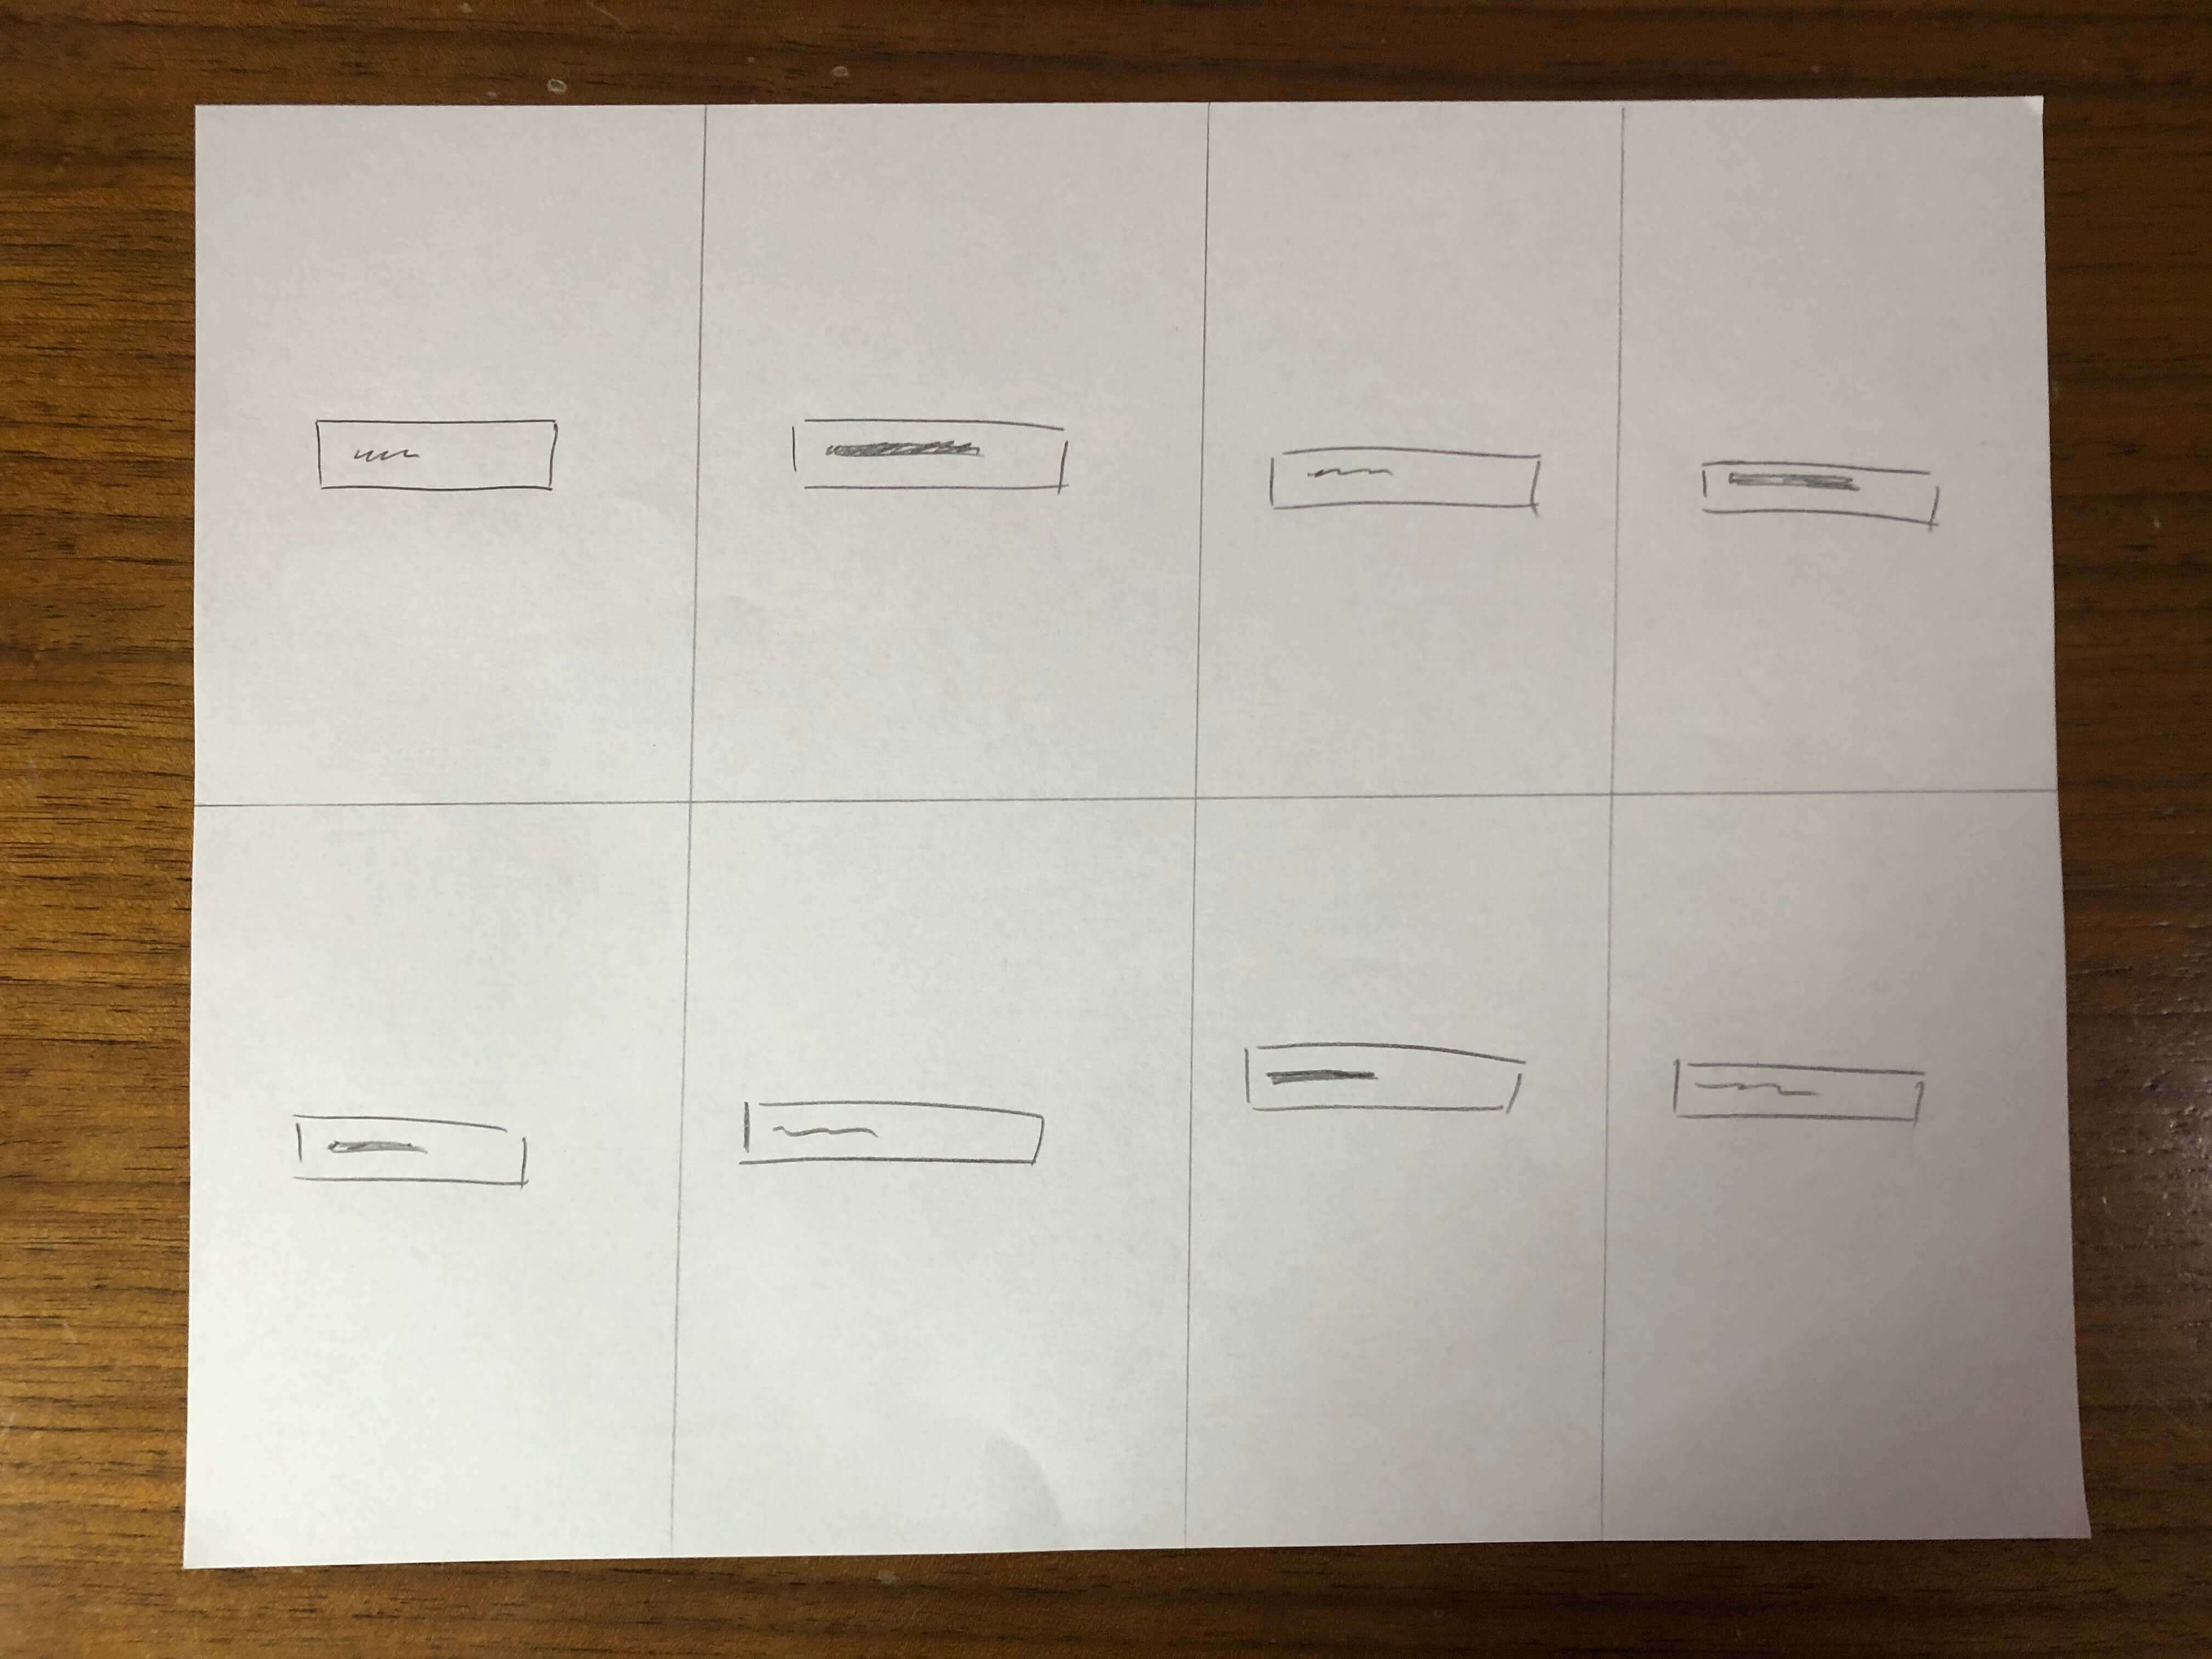input: (779, 404, 1089, 516), (735, 1087, 1052, 1185), (1240, 1032, 1533, 1133), (282, 1101, 543, 1202), (1693, 450, 1958, 545), (1263, 434, 1547, 521), (308, 408, 564, 504), (1662, 1046, 1928, 1134)
